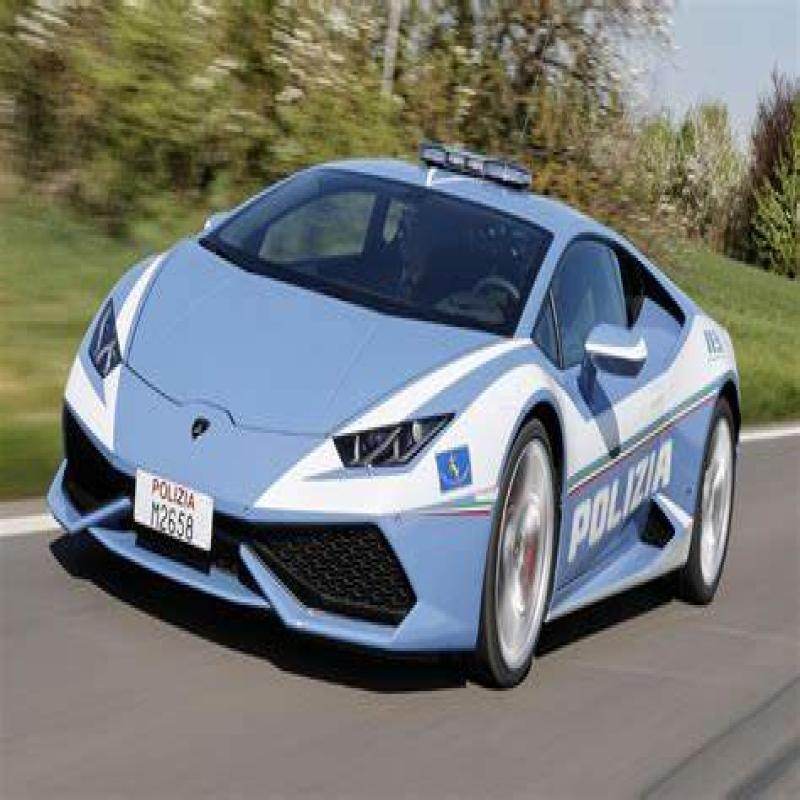AmbulanceSiren: (418, 124, 536, 206)
car: (102, 115, 792, 656)
